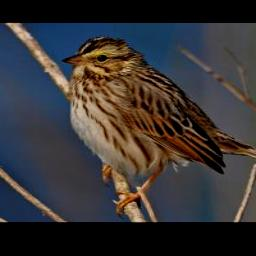Sparrow: (61, 36, 256, 221)
